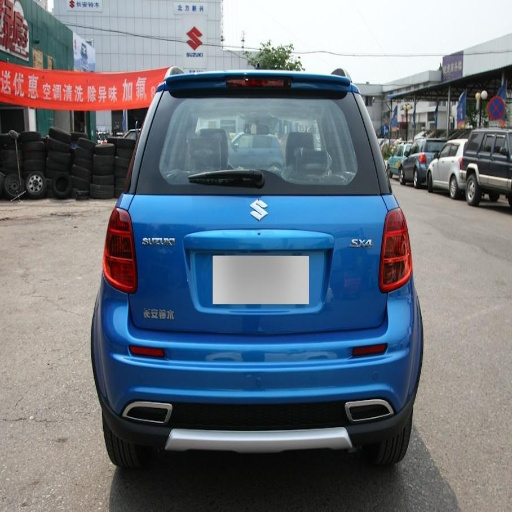back_bumper: (92, 283, 422, 448)
tailgate: (152, 225, 378, 339)
trunk: (115, 198, 382, 341)
